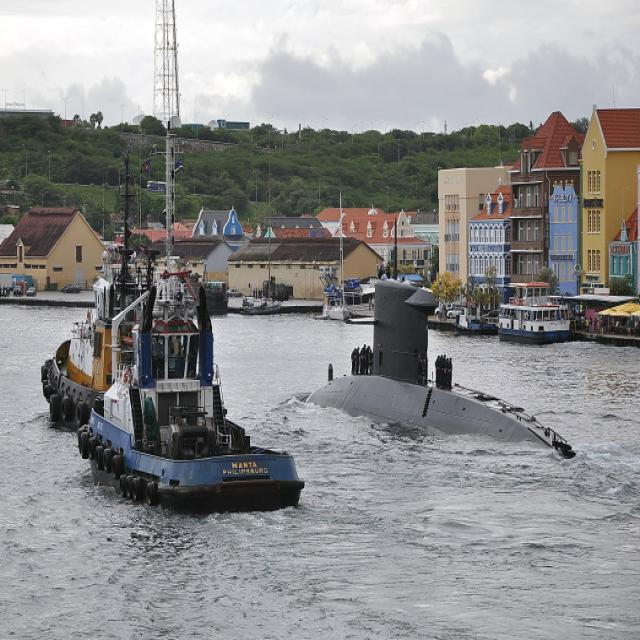submarine: (308, 255, 602, 473)
